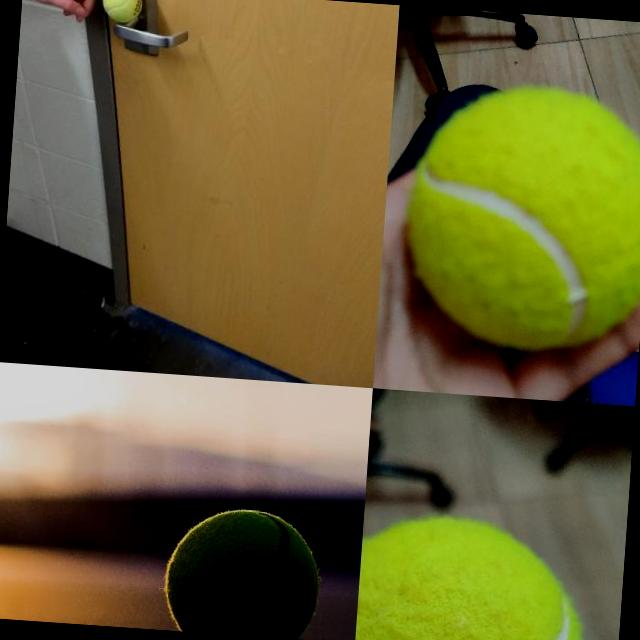tennis-ball: (400, 79, 640, 356), (354, 511, 593, 640), (162, 502, 324, 640), (100, 0, 144, 25)
